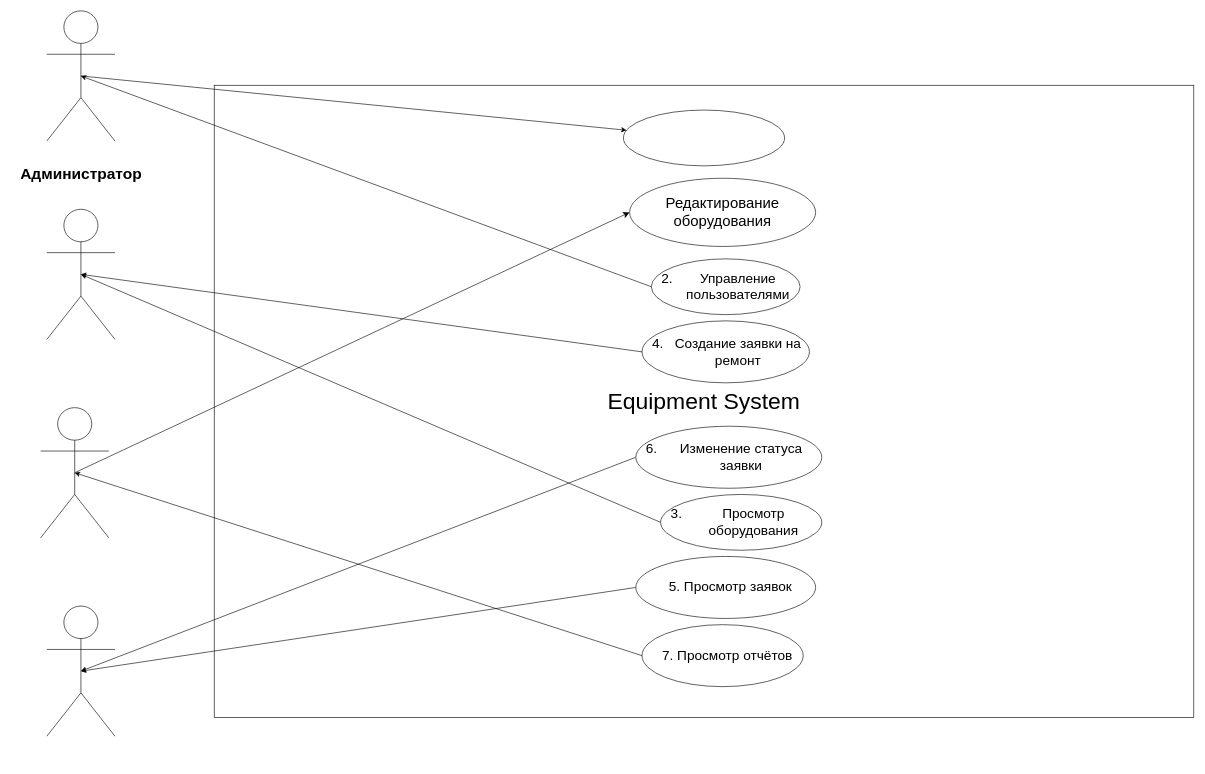
Some shapes in this 1205 by 774 pixel diagram are drawn without their labels. The shapes that lost their labels are listed below. From the top down, each one's centre as x and y in pixels, then its label:
At point (704, 137): "Добавление оборудования".
At point (80, 274): "Сотрудник".
At point (74, 472): "Руководитель .".
At point (80, 670): "Мастер".
